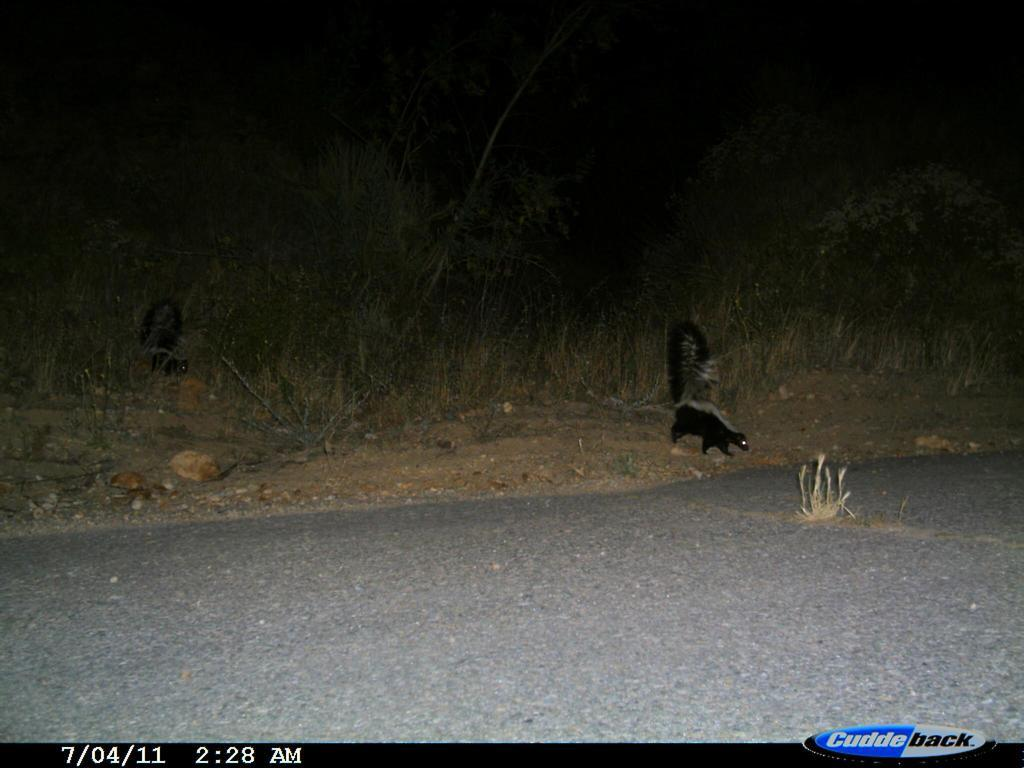skunk: (642, 315, 771, 472), (130, 280, 204, 377)
